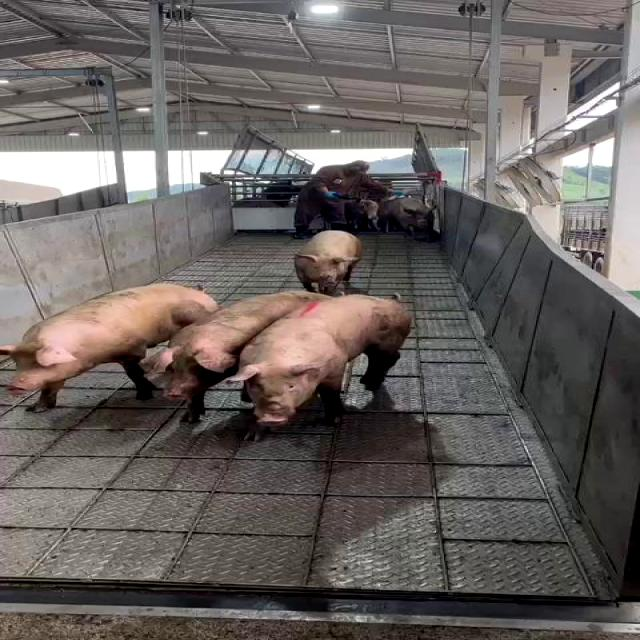pig: (0, 284, 218, 412), (227, 295, 412, 441), (142, 291, 330, 422), (293, 230, 362, 294)
